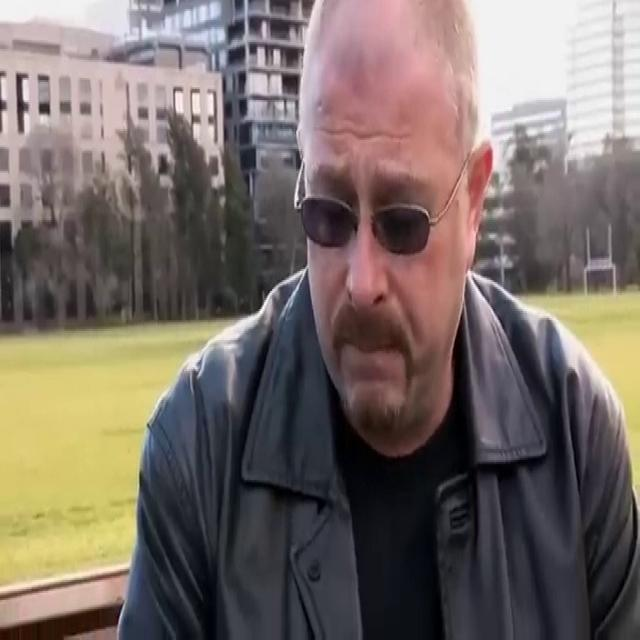others: (115, 0, 639, 638)
